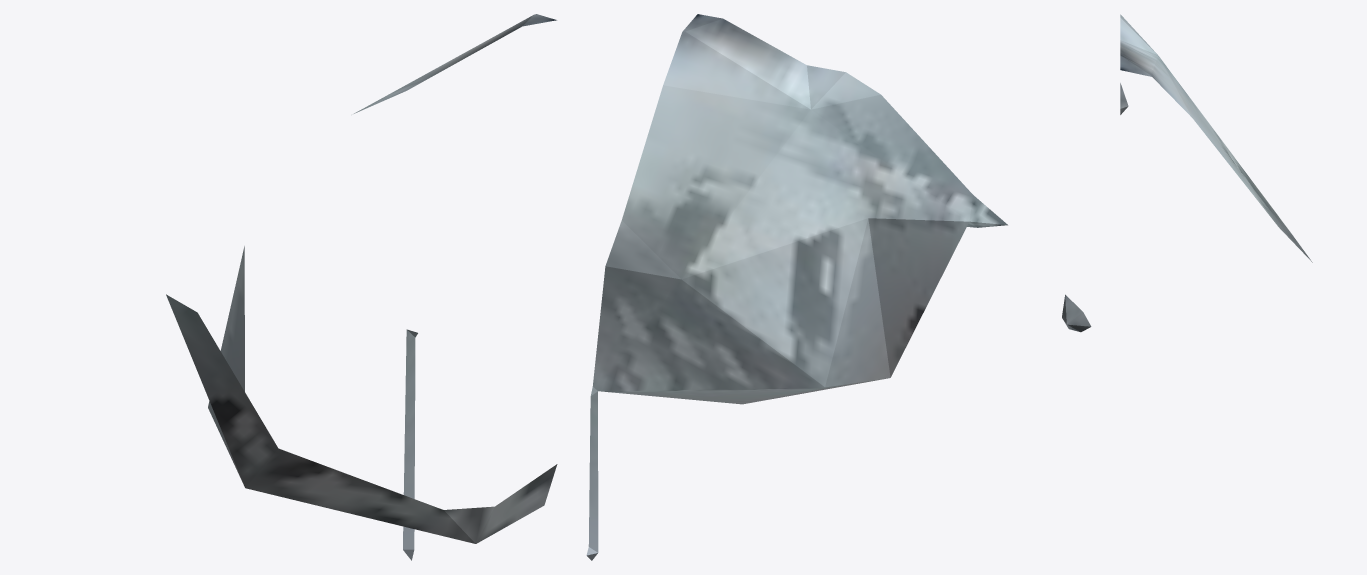
3 renders of one model, left to right at view 1: azimuth 30°, elevation 25°; view 2: azimuth 150°, elevation 25°; view 3: azimuth 270°, elevation 25°, orthographic. The views are drawn at different scales.
Size of the model in its own units: 0.2087 by 0.2386 by 0.102.
Materials: 1 (1 with a texture image).
